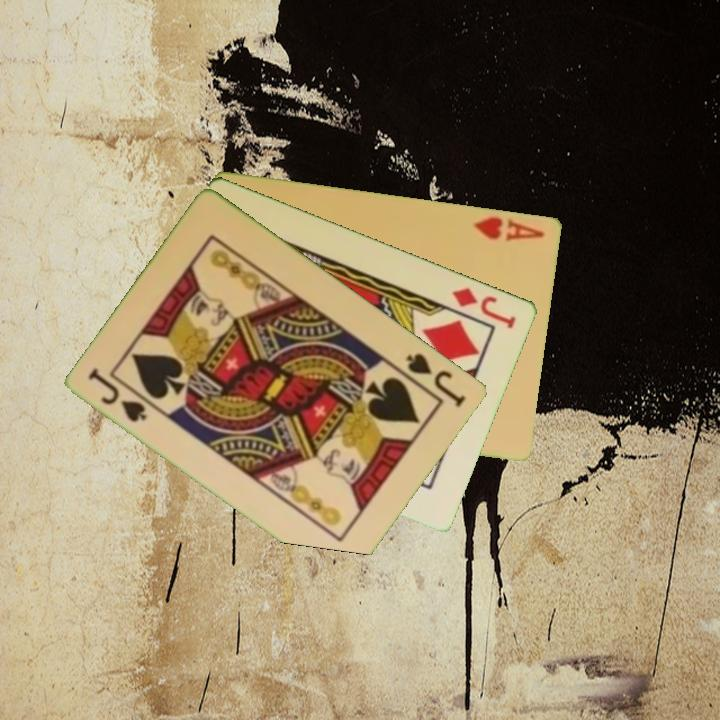Ah: (471, 213, 547, 244)
Jd: (449, 283, 520, 332)
Js: (403, 349, 469, 410), (85, 364, 150, 425)
